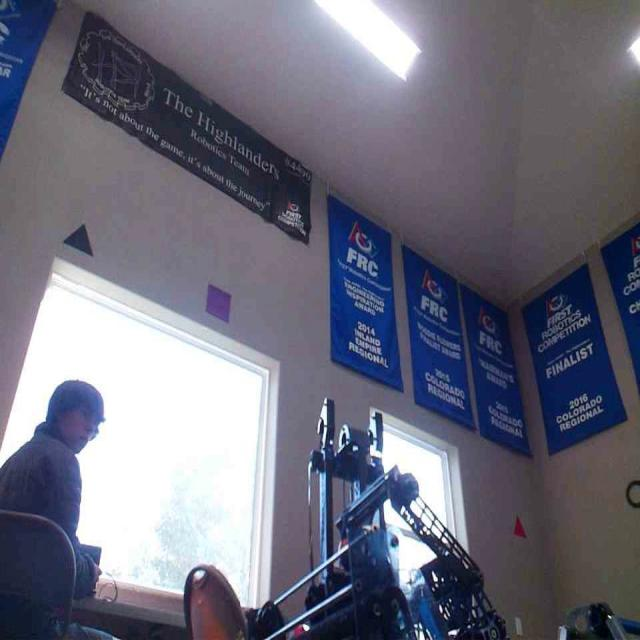square_purple: (205, 284, 232, 322)
triangle_black: (63, 222, 93, 256)
triangle_red: (512, 513, 526, 539)
